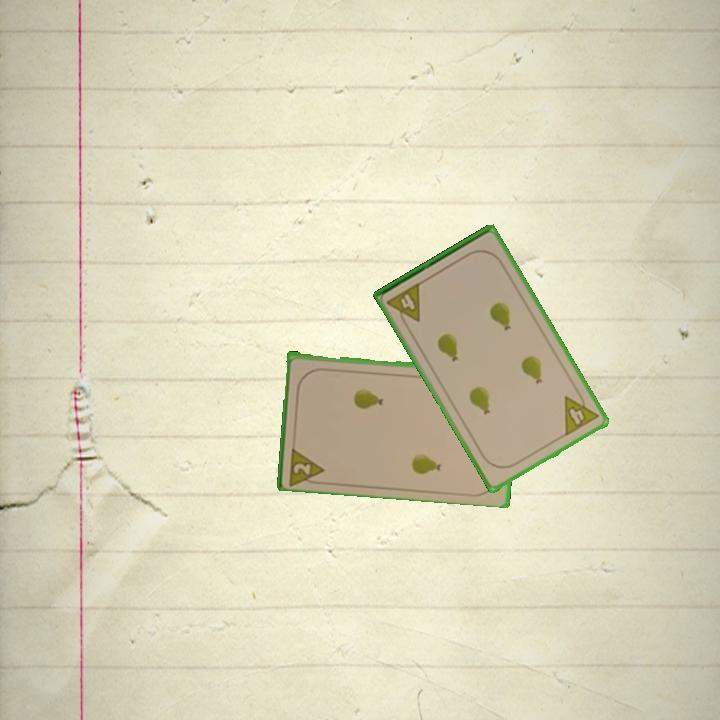2p: (286, 442, 328, 487)
4p: (561, 386, 602, 439), (383, 279, 424, 330)
